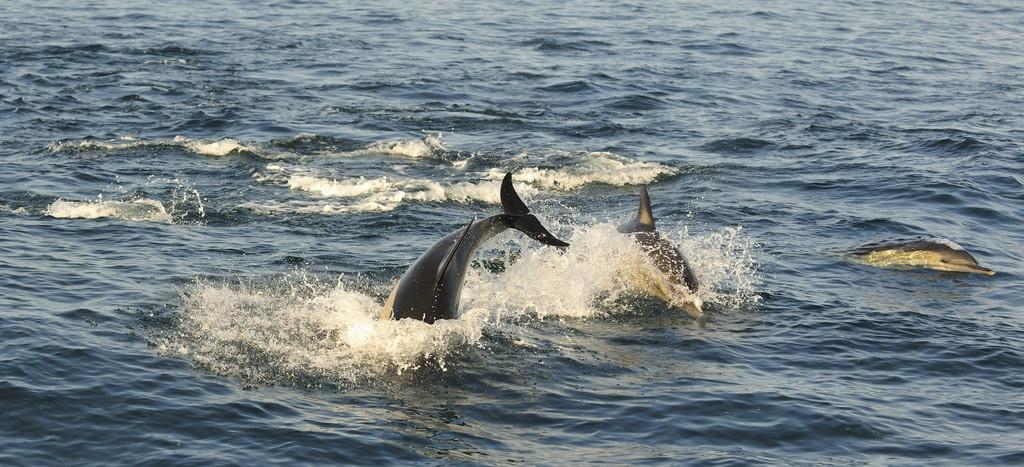fish: (335, 168, 578, 416), (595, 191, 716, 317), (800, 221, 1000, 283)
